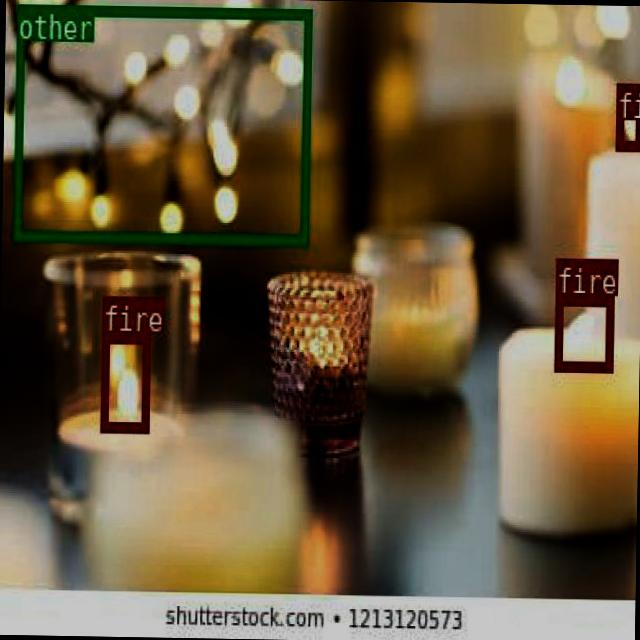fire: (98, 332, 148, 431), (554, 294, 612, 368), (613, 82, 640, 147)
